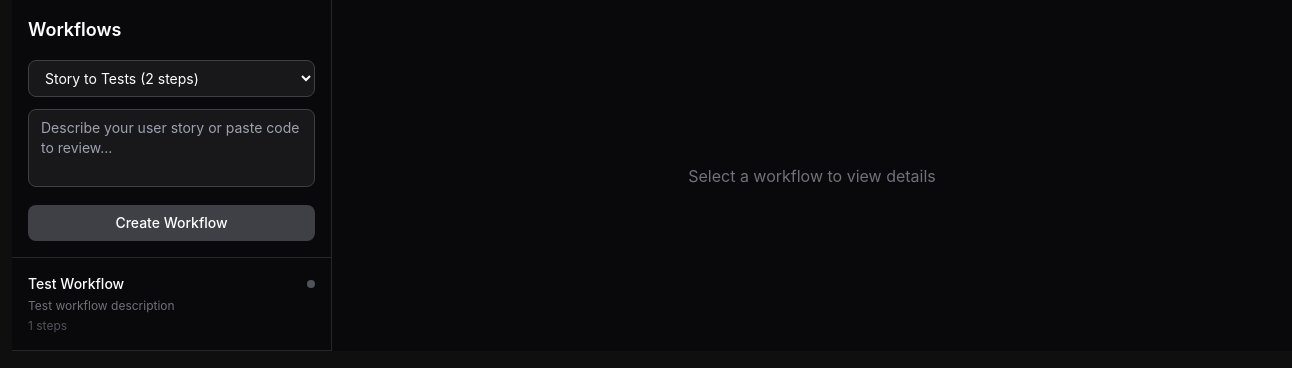
Test case: WorkflowPanel › Workflow List › should select workflow when clicked
The width and height of the screenshot is (1292, 368).
Expected: the text "Test Workflow" is shown, [28,274,124,294]
Click the button "Test Workflow".
click(172, 304)  # box [12,258,331,351]
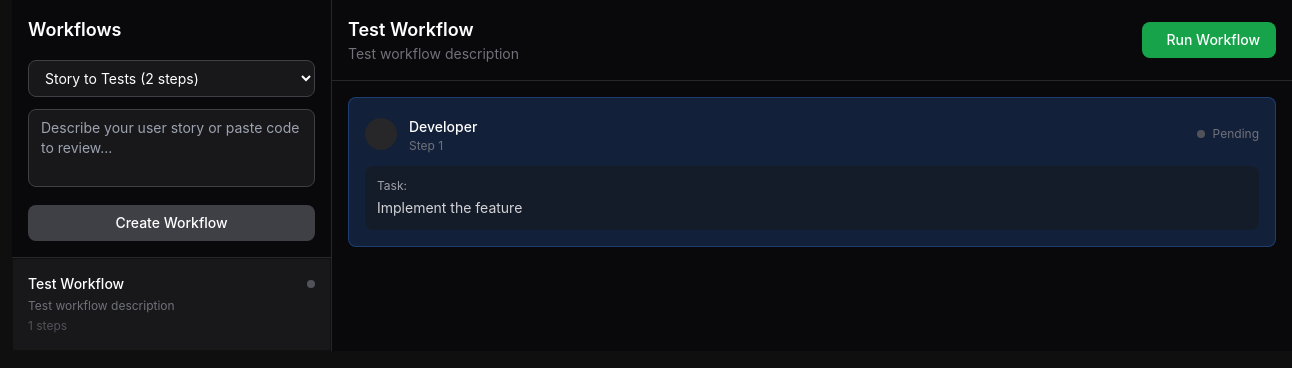
Expected: the text "Test Workflow" is shown 2 times, [28,274,124,294]; [348,19,474,40]
